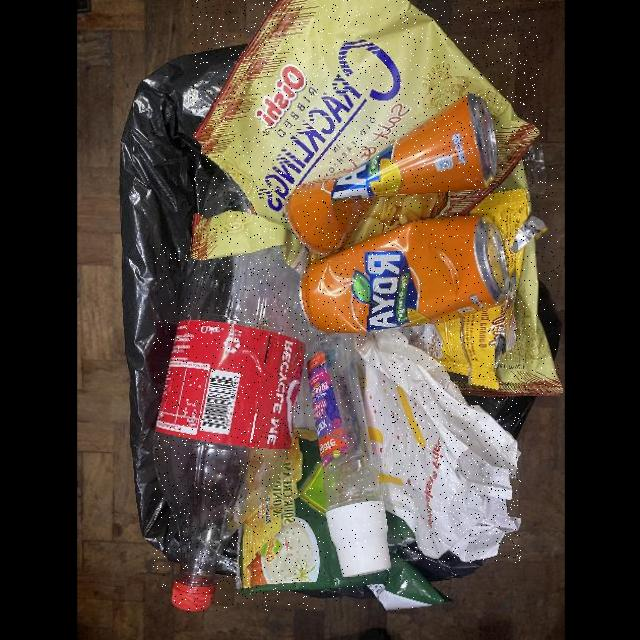metal: (286, 93, 497, 252), (300, 213, 509, 333)
paper: (352, 330, 521, 562)
plastic: (154, 244, 309, 610), (304, 333, 392, 576)
wrapper: (191, 0, 543, 273), (236, 426, 451, 612), (404, 187, 546, 387), (448, 158, 560, 396)
